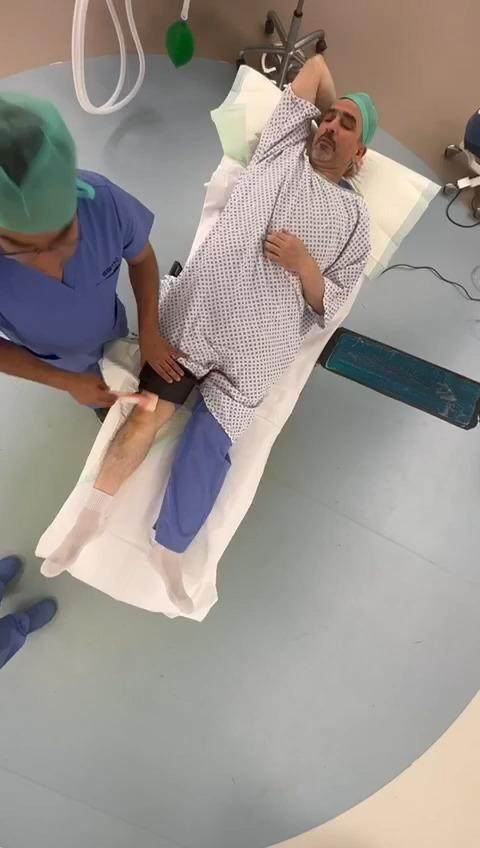patient: (41, 55, 376, 614)
prepstick: (111, 392, 159, 412)
tourniquet: (139, 363, 200, 404)
